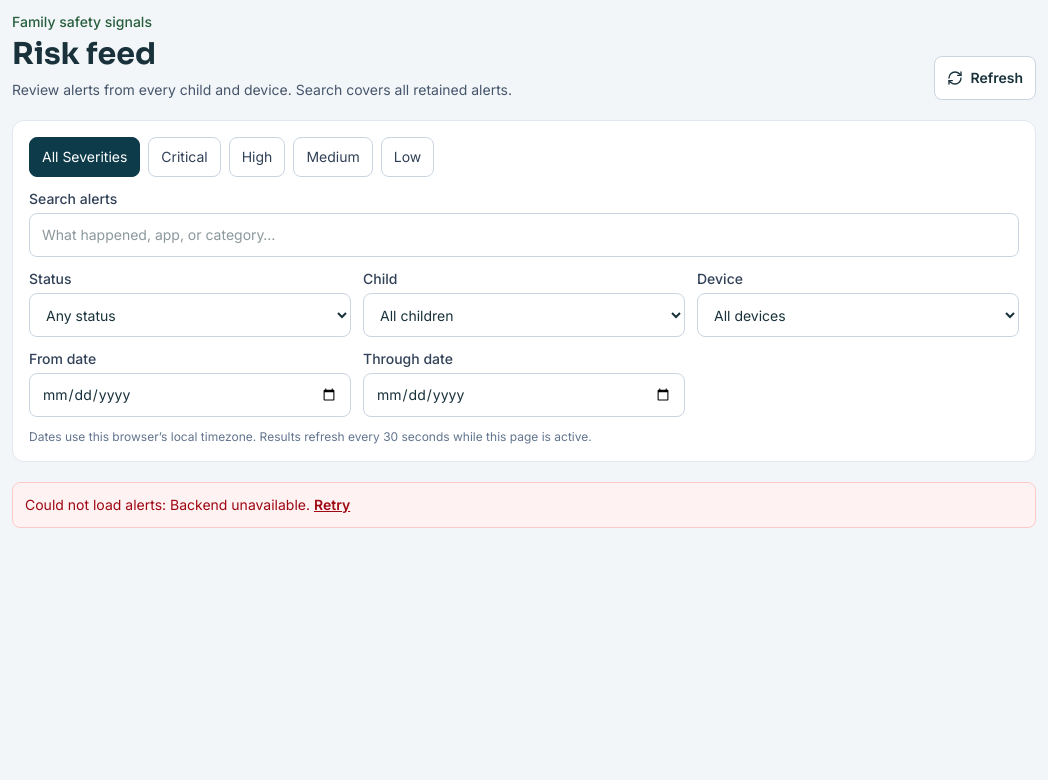
complete risk history › shows failed requests as errors and supports retry
Expected: the text "No alerts yet. Signals from monitored devices will appear here." is not shown
Click the button "Retry" at {"x": 332, "y": 505}, box left=314, top=495, right=350, bottom=515
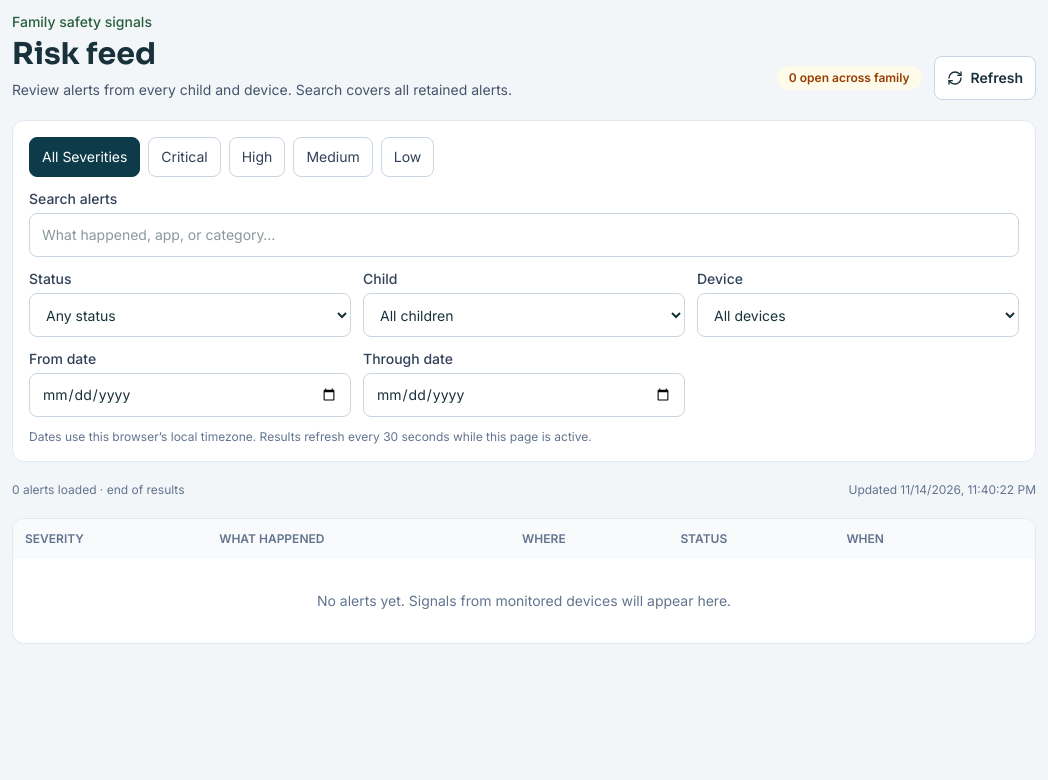
Expected: the text "No alerts yet. Signals from monitored devices will appear here." is shown, left=13, top=559, right=1035, bottom=643
